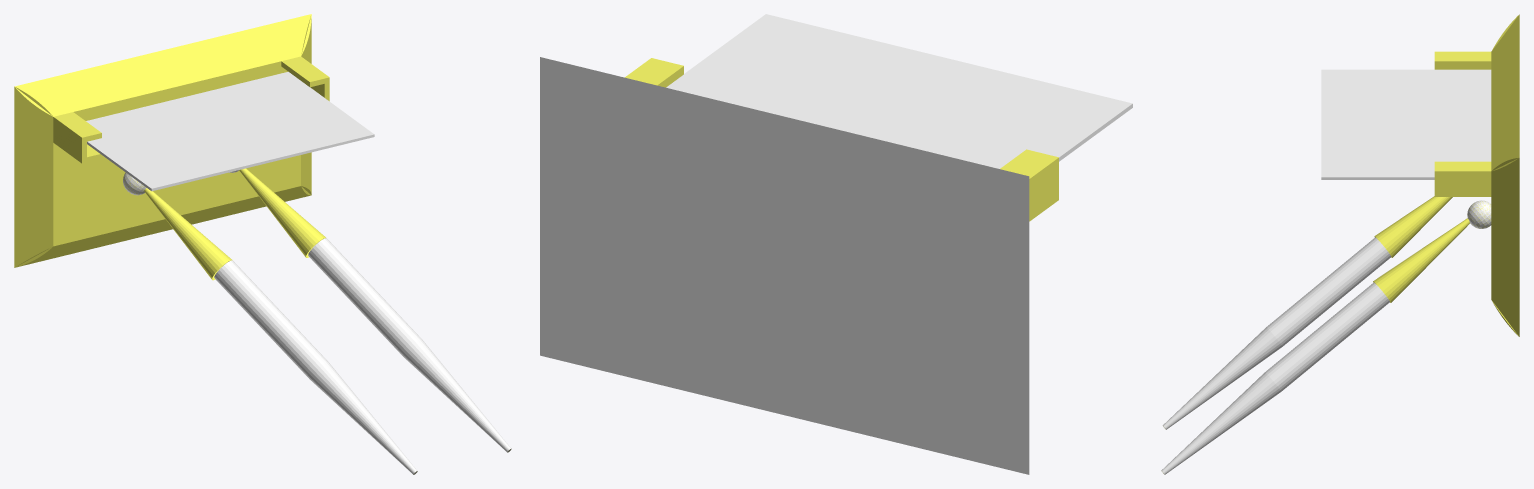
The picture shows the model from 3 angles, left to right: view 1: azimuth 30°, elevation 25°; view 2: azimuth 150°, elevation 25°; view 3: azimuth 270°, elevation 25°; orthographic projection. The views are drawn at different scales.
Visible parts, largest first — view 1: pen stand with card holder; view 2: pen stand with card holder; view 3: pen stand with card holder.
Boxes of the visible parts, x1=… form: pen stand with card holder: x1=14, y1=14, x2=511, y2=474; pen stand with card holder: x1=540, y1=14, x2=1132, y2=474; pen stand with card holder: x1=1161, y1=14, x2=1519, y2=474.
Bounding box in the file's own units: 5.05 × 4.73 × 4.98.
